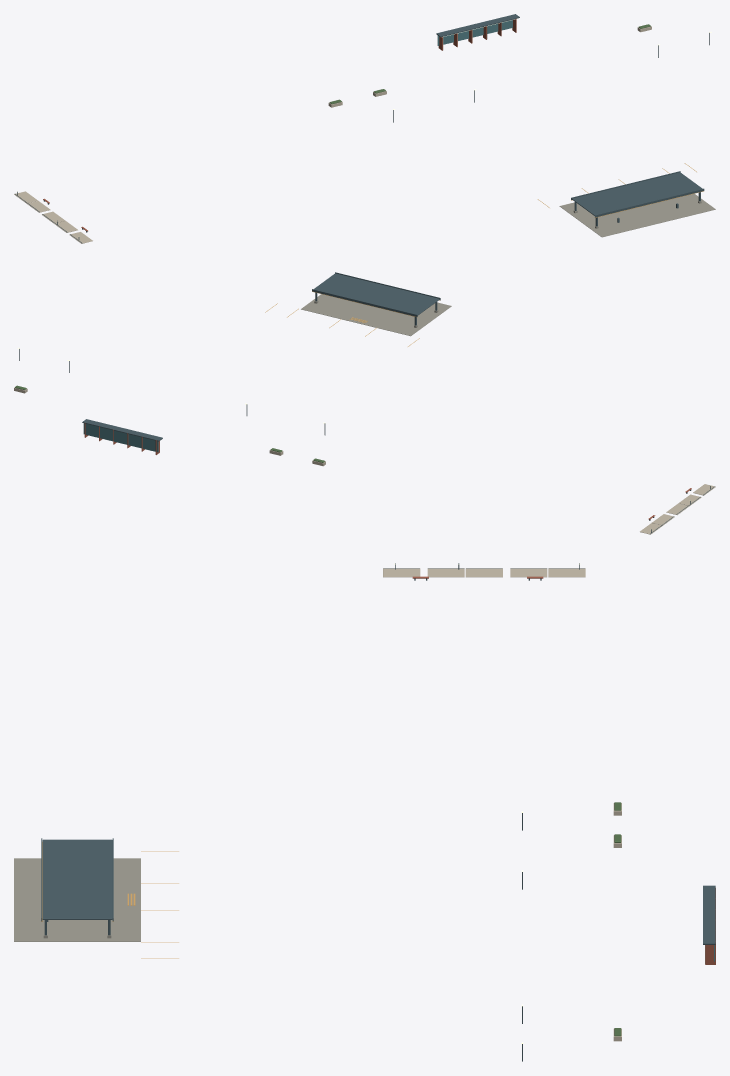
The model's file is landmarks.glb.
3 views of the same model, one above another, from view 1: azimuth 30°, elevation 25°; view 2: azimuth 150°, elevation 25°; view 3: azimuth 270°, elevation 25° (orthographic). The views are drawn at different scales.
Parts seen in each view (by area): view 1: Garage slab, Canopy roof, Portal glazing, Portal beam; view 2: Garage slab, Canopy roof, Portal glazing, Portal beam; view 3: Garage slab, Canopy roof, Portal beam.
Part boxes in pixels (bbox=[...]): Garage slab: bbox=[559, 193, 715, 237]; Canopy roof: bbox=[572, 172, 702, 215]; Portal glazing: bbox=[437, 20, 512, 45]; Portal beam: bbox=[436, 14, 519, 37]; Garage slab: bbox=[301, 294, 451, 336]; Canopy roof: bbox=[314, 273, 439, 315]; Portal glazing: bbox=[83, 423, 158, 452]; Portal beam: bbox=[82, 419, 162, 441]; Garage slab: bbox=[14, 858, 140, 941]; Canopy roof: bbox=[42, 839, 112, 919]; Portal beam: bbox=[703, 885, 715, 944].
Size of the model in its own units: 184 by 4.06 by 110.
